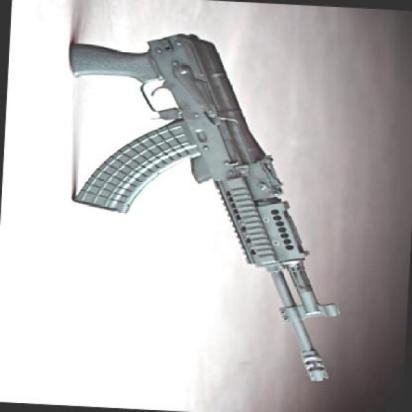Gun: (39, 17, 375, 392)
